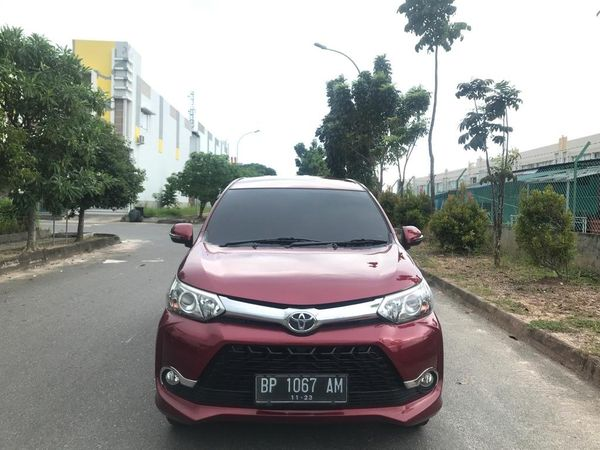plate: (252, 372, 350, 404)
